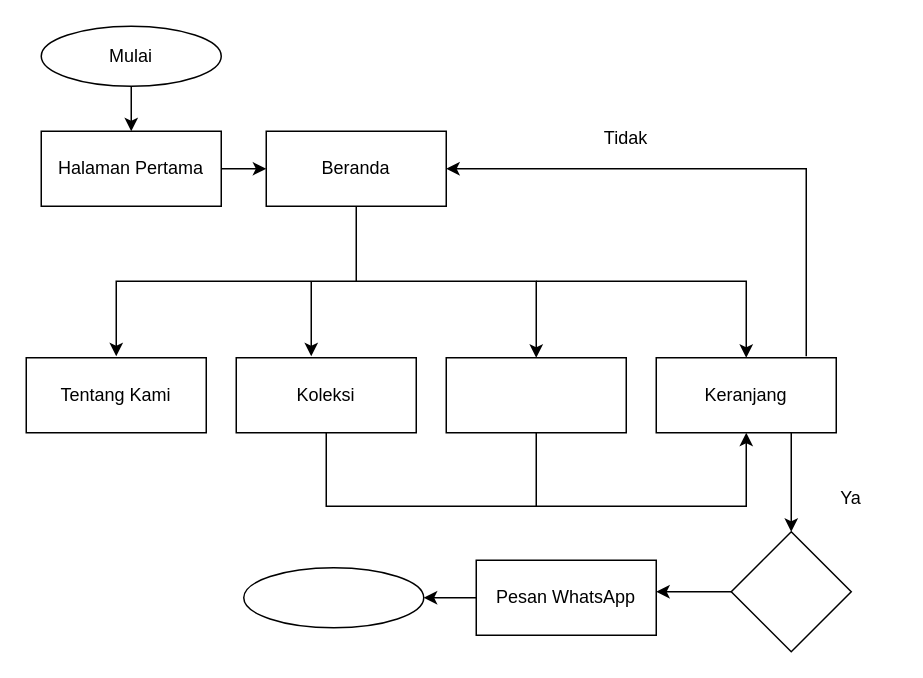
This 923x678 diagram has some shape labels left out. The centre of each missing label's shape, as x and y in pixels:
"Form Pembelian" belongs at (790,591).
"Produk Lain" belongs at (535,394).
"Selesai" belongs at (333,597).
